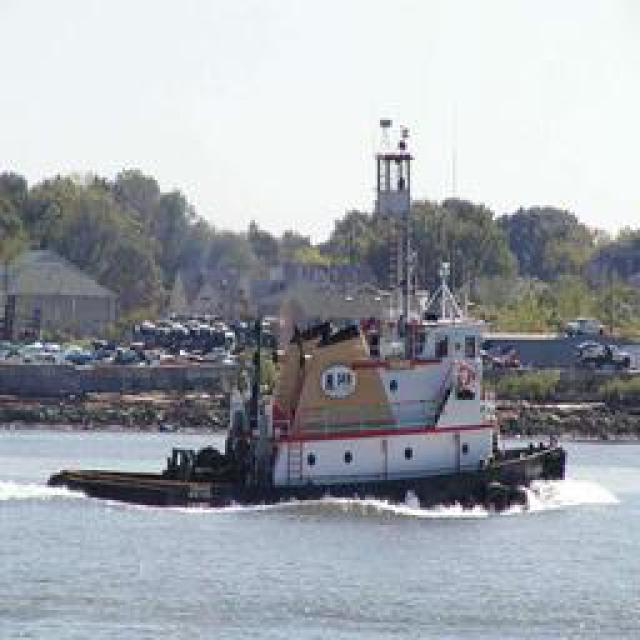Ship: (188, 273, 583, 508)
